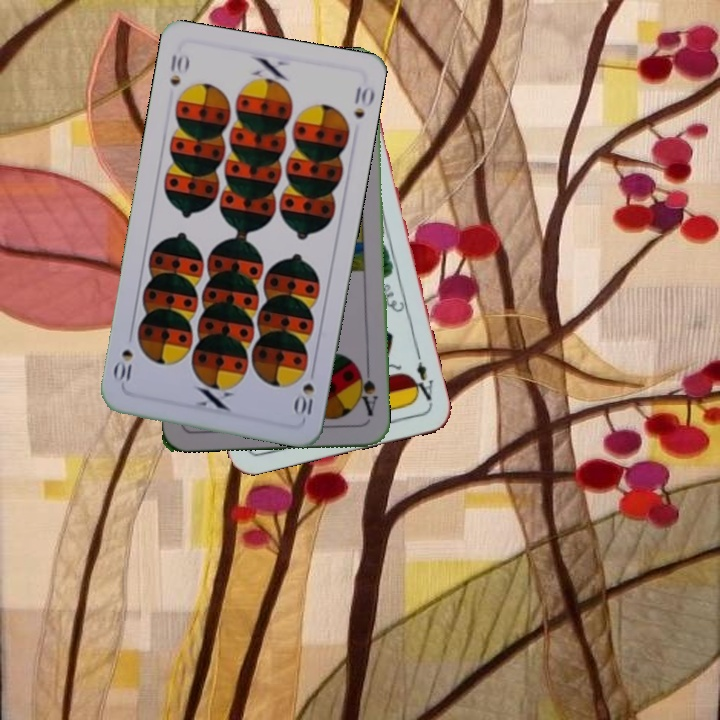EA: (407, 348, 436, 407)
S10: (291, 363, 318, 421), (166, 50, 192, 88)
SA: (353, 362, 380, 418)
